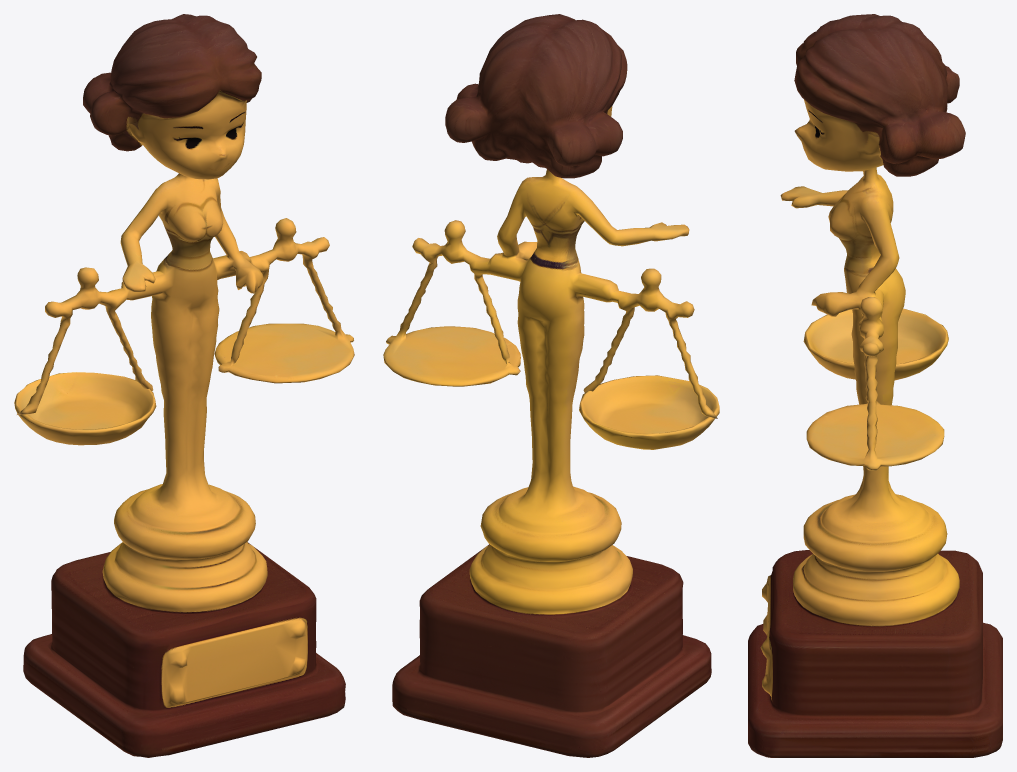
Rendered from award_reckoner.glb.
The picture shows the model from 3 angles, left to right: view 1: azimuth 30°, elevation 25°; view 2: azimuth 150°, elevation 25°; view 3: azimuth 270°, elevation 25°; orthographic projection. The views are drawn at different scales.
Size of the model in its own units: 0.998 by 1.91 by 0.6458.
1 material, 1 textured.
